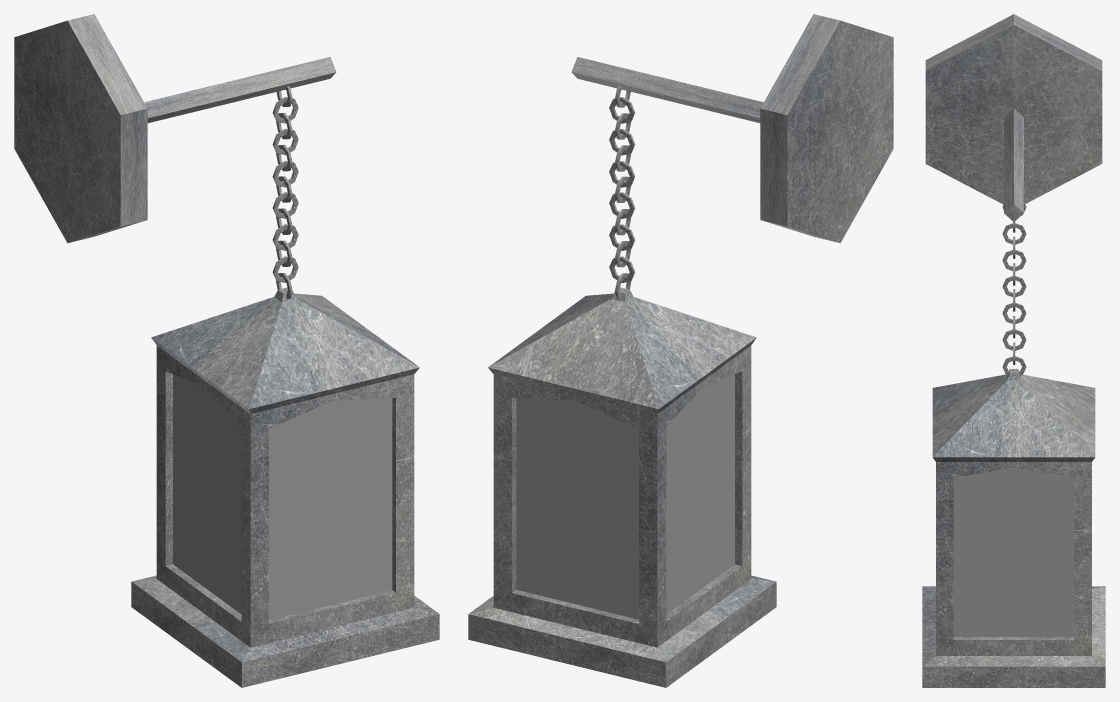
The model's file is WallLanternUnity2Parts.FBX.
3 views of the same model, side by side, from view 1: azimuth 30°, elevation 25°; view 2: azimuth 150°, elevation 25°; view 3: azimuth 270°, elevation 25° (orthographic). The views are drawn at different scales.
Parts seen in each view (by area): view 1: LanternMetal, LanternGlass; view 2: LanternMetal, LanternGlass; view 3: LanternMetal, LanternGlass.
Part boxes in pixels (bbox=[...]): LanternMetal: bbox=[14, 14, 439, 687]; LanternGlass: bbox=[173, 374, 392, 620]; LanternMetal: bbox=[468, 14, 893, 687]; LanternGlass: bbox=[516, 374, 734, 619]; LanternMetal: bbox=[922, 14, 1105, 687]; LanternGlass: bbox=[953, 467, 1074, 636].
Size of the model in its own units: 0.4721 by 0.9336 by 0.2847.
Materials: 2 (1 with a texture image).
